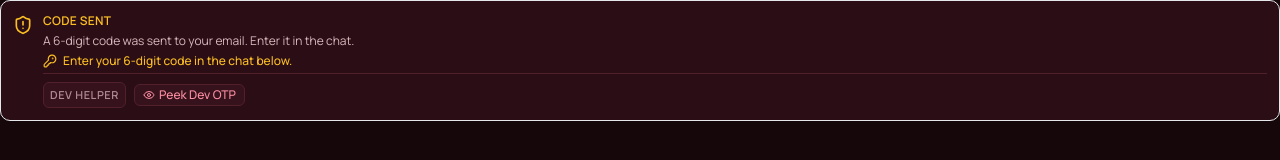
Test: VerificationPrompt › renders dev-only OTP peek when NEXT_PUBLIC_ENABLE_DEMO_CODE is true + awaiting code
Later steps or results of the test are not shown.
Click the button with test id "peek-dev-otp-button" at (189,95), box [134, 84, 245, 106]
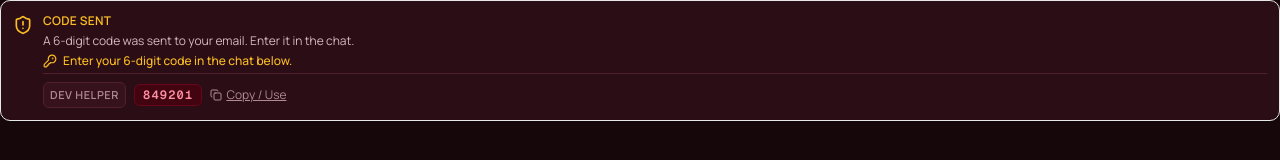
Now the text "849201" is shown, box [134, 84, 202, 106]
